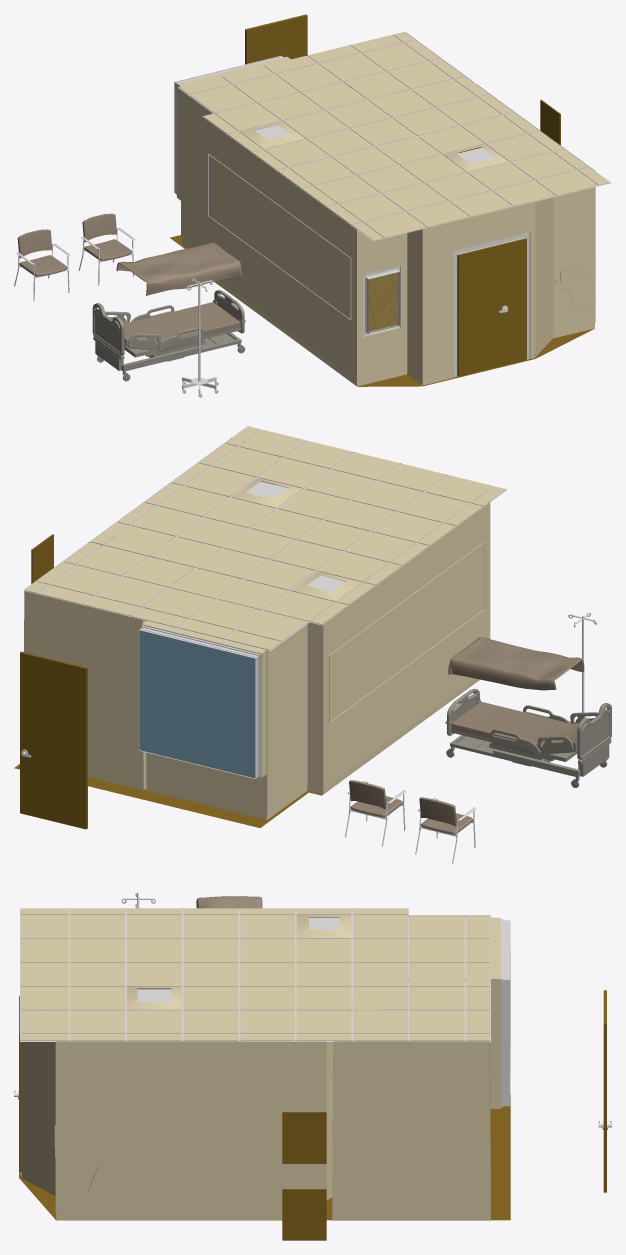
File: Hospital_Room_Expanded.fbx
3 renders of one model, top to bottom at view 1: azimuth 30°, elevation 25°; view 2: azimuth 150°, elevation 25°; view 3: azimuth 270°, elevation 25°, orthographic. The views are drawn at different scales.
Visible parts, largest first — view 1: Walls, Ceiling, Door_Entrance, Bed, Blanket, Floor, Mattress, BathroomDoor_Straight, Chair2, Chair1, Blinds_Small, IVstand (+1 smaller); view 2: Walls, Ceiling, BathroomDoor_Straight, Bed, Blanket, Mattress, Floor, Chair1, Chair2, Board; view 3: Walls, Ceiling, Board (×2), Floor, BathroomDoor_Straight, Blanket.
Part boxes in pixels (x1=…): Walls: x1=174, y1=32, x2=595, y2=386; Ceiling: x1=178, y1=32, x2=611, y2=241; Door_Entrance: x1=457, y1=242, x2=509, y2=376; Bed: x1=92, y1=290, x2=245, y2=381; Blanket: x1=116, y1=242, x2=242, y2=295; Floor: x1=170, y1=235, x2=594, y2=386; Mattress: x1=123, y1=302, x2=240, y2=347; BathroomDoor_Straight: x1=245, y1=14, x2=307, y2=64; Chair2: x1=14, y1=229, x2=70, y2=301; Chair1: x1=78, y1=213, x2=134, y2=285; Blinds_Small: x1=368, y1=272, x2=398, y2=333; IVstand: x1=182, y1=278, x2=218, y2=397; Walls: x1=24, y1=438, x2=490, y2=819; Ceiling: x1=23, y1=426, x2=507, y2=650; BathroomDoor_Straight: x1=20, y1=651, x2=87, y2=829; Bed: x1=445, y1=688, x2=611, y2=787; Blanket: x1=448, y1=637, x2=584, y2=690; Mattress: x1=451, y1=701, x2=578, y2=751; Floor: x1=14, y1=713, x2=433, y2=827; Chair1: x1=345, y1=780, x2=405, y2=846; Chair2: x1=415, y1=797, x2=476, y2=863; Board: x1=31, y1=534, x2=53, y2=583; Walls: x1=19, y1=908, x2=510, y2=1220; Ceiling: x1=20, y1=908, x2=490, y2=1041; Board (×2): x1=282, y1=1112, x2=326, y2=1240; Floor: x1=19, y1=1094, x2=510, y2=1220; BathroomDoor_Straight: x1=598, y1=990, x2=611, y2=1192; Blanket: x1=196, y1=896, x2=262, y2=908.
Size of the model in its own units: 863 by 277 by 822.
